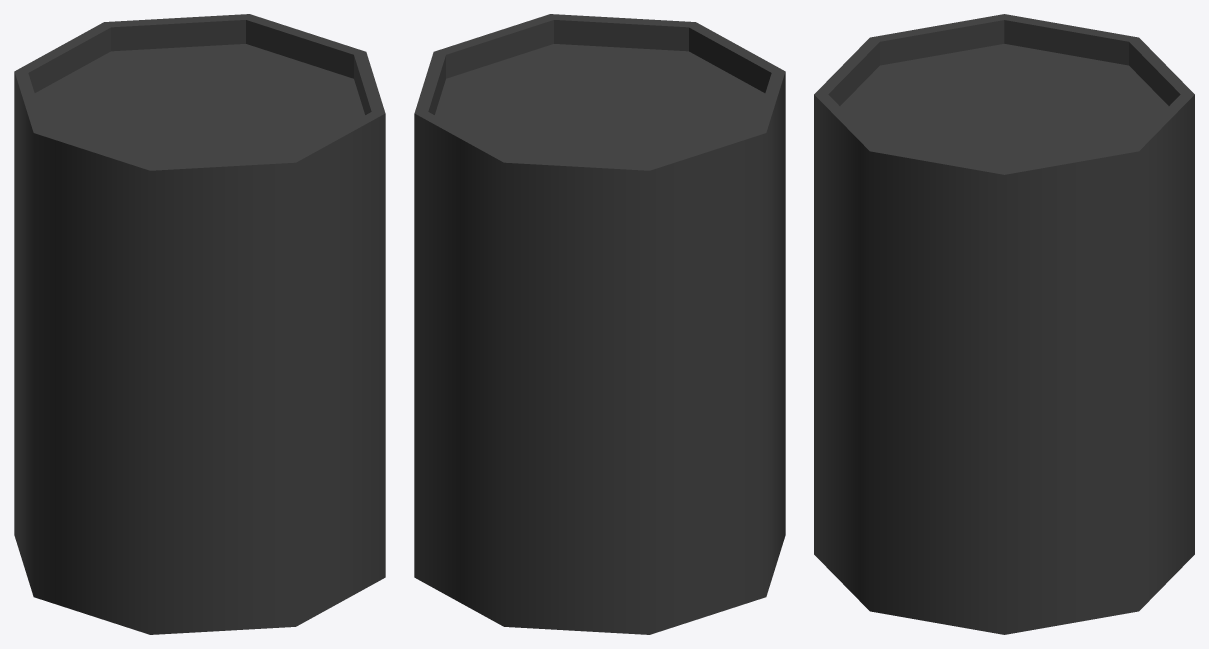
The model's file is barrel.FBX.
3 renders of one model, left to right at view 1: azimuth 30°, elevation 25°; view 2: azimuth 150°, elevation 25°; view 3: azimuth 270°, elevation 25°, orthographic.
Visible parts, largest first — view 1: Cylinder001; view 2: Cylinder001; view 3: Cylinder001.
Part boxes in pixels (box(x1,y1,x2,y2)): Cylinder001: box(14, 14, 385, 634); Cylinder001: box(414, 14, 785, 634); Cylinder001: box(814, 14, 1194, 634).
Bounding box in the file's own units: 5.91 × 7.87 × 5.91.
1 material, 1 textured.
